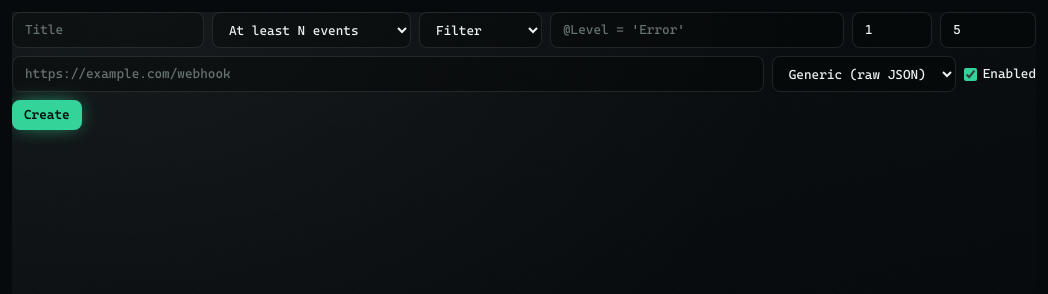
Test: an unparseable filter is reported and never submitted
Type "broken" into the field with placeholder "Title" at (108, 30), box [12,12,204,48]
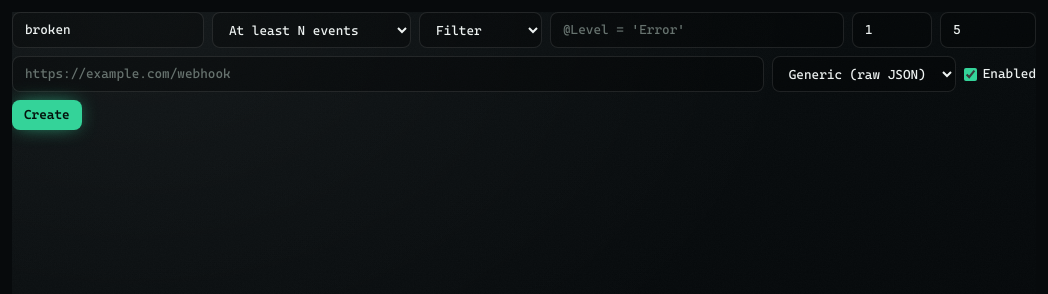
Type "@Level = = x" into the field with placeholder "@Level = 'Error'" at (697, 30), box [550,12,844,48]
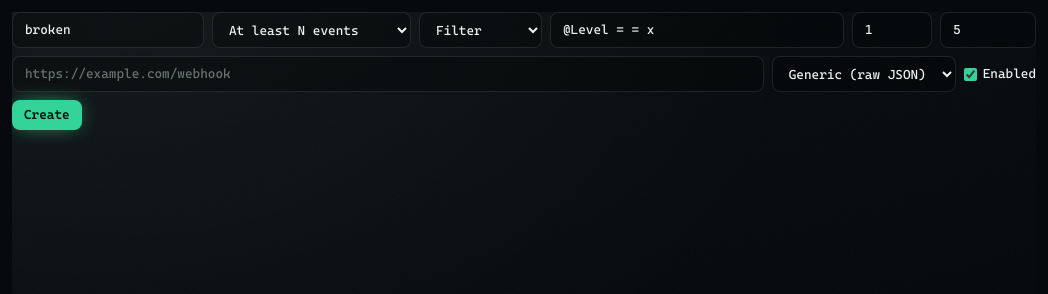
Type "https://x.test/hook" into the field with placeholder "https://example.com/webhook" at (388, 74), box [12,56,764,92]
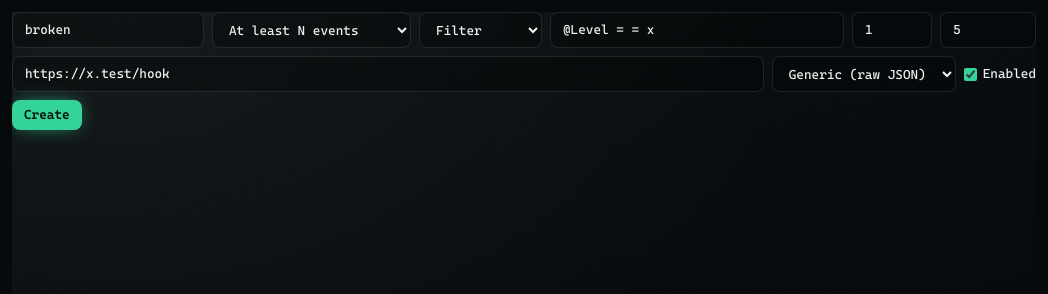
Click the button "Create" at (47, 115), box [12,100,82,130]
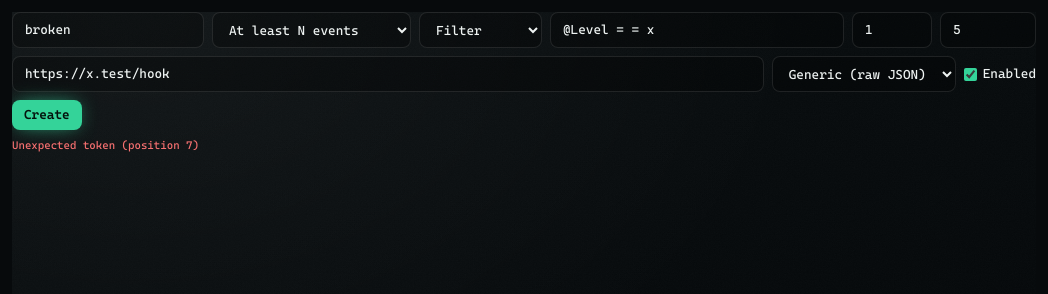
Expected: the text "Unexpected token (position 7)" is shown, [12,139,199,152]
